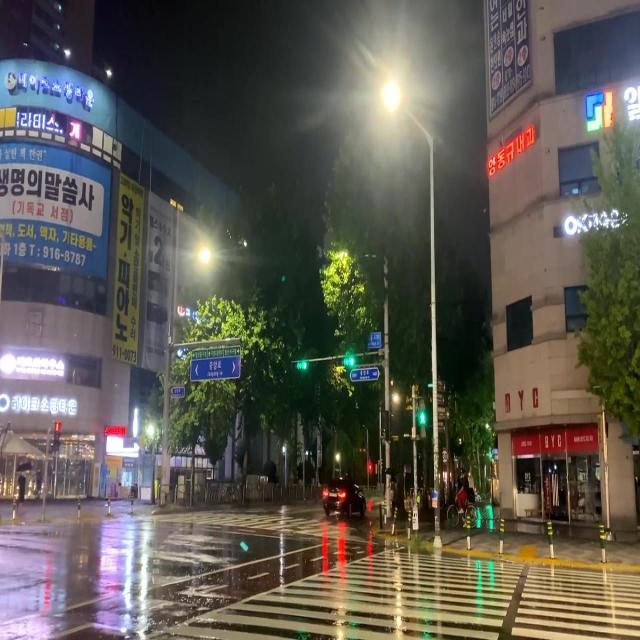Car: (318, 479, 365, 521)
